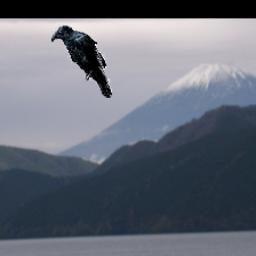Crow: (51, 24, 113, 98)
